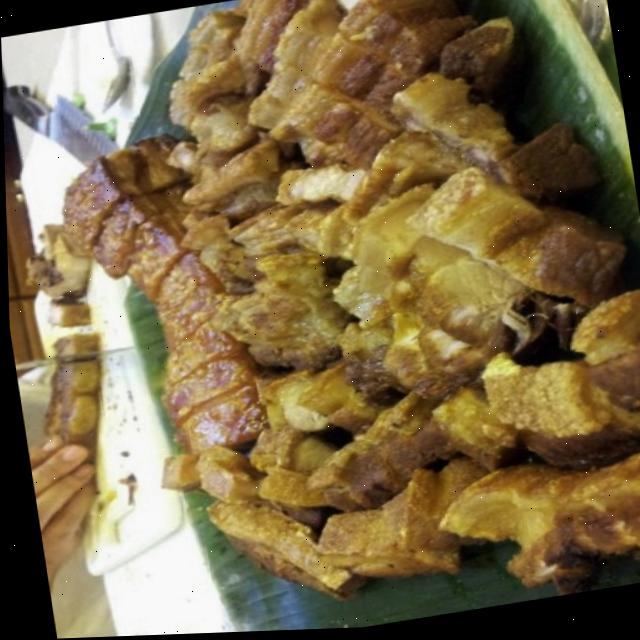牛肉菜式: (40, 0, 640, 639)
